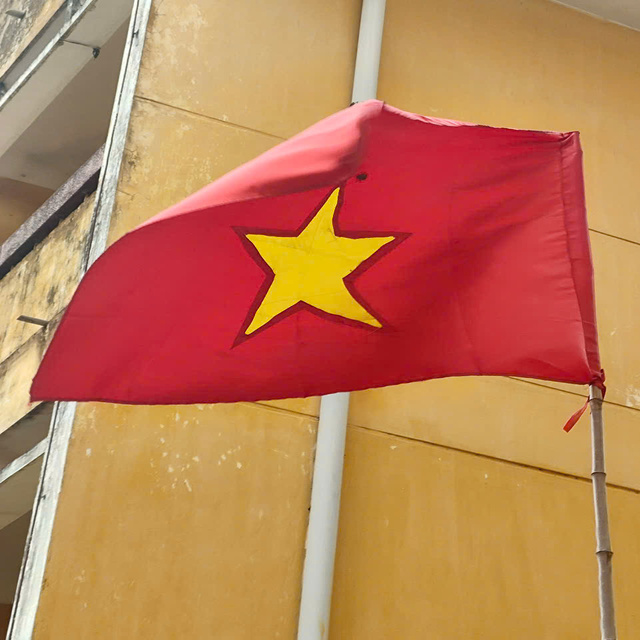laco: (38, 87, 634, 434)
